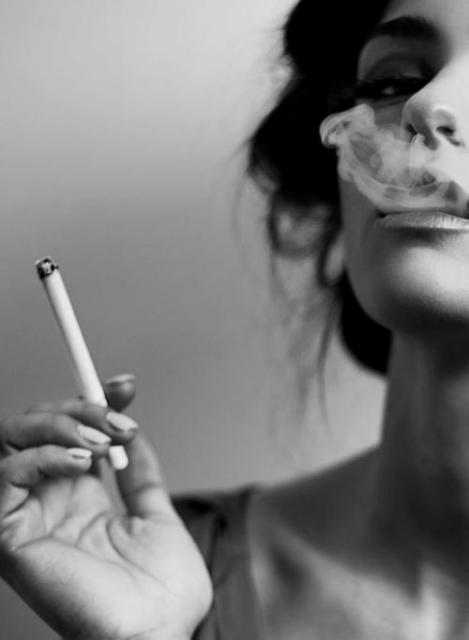Cigarette: (28, 252, 130, 478)
